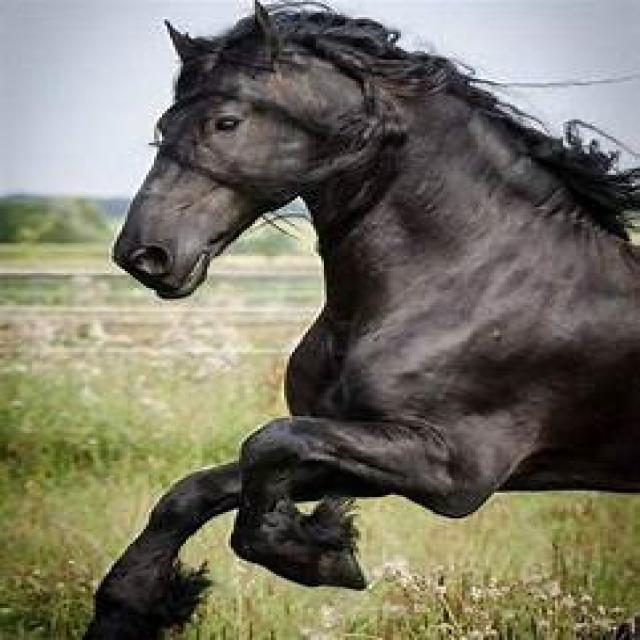horse: (85, 4, 638, 640)
